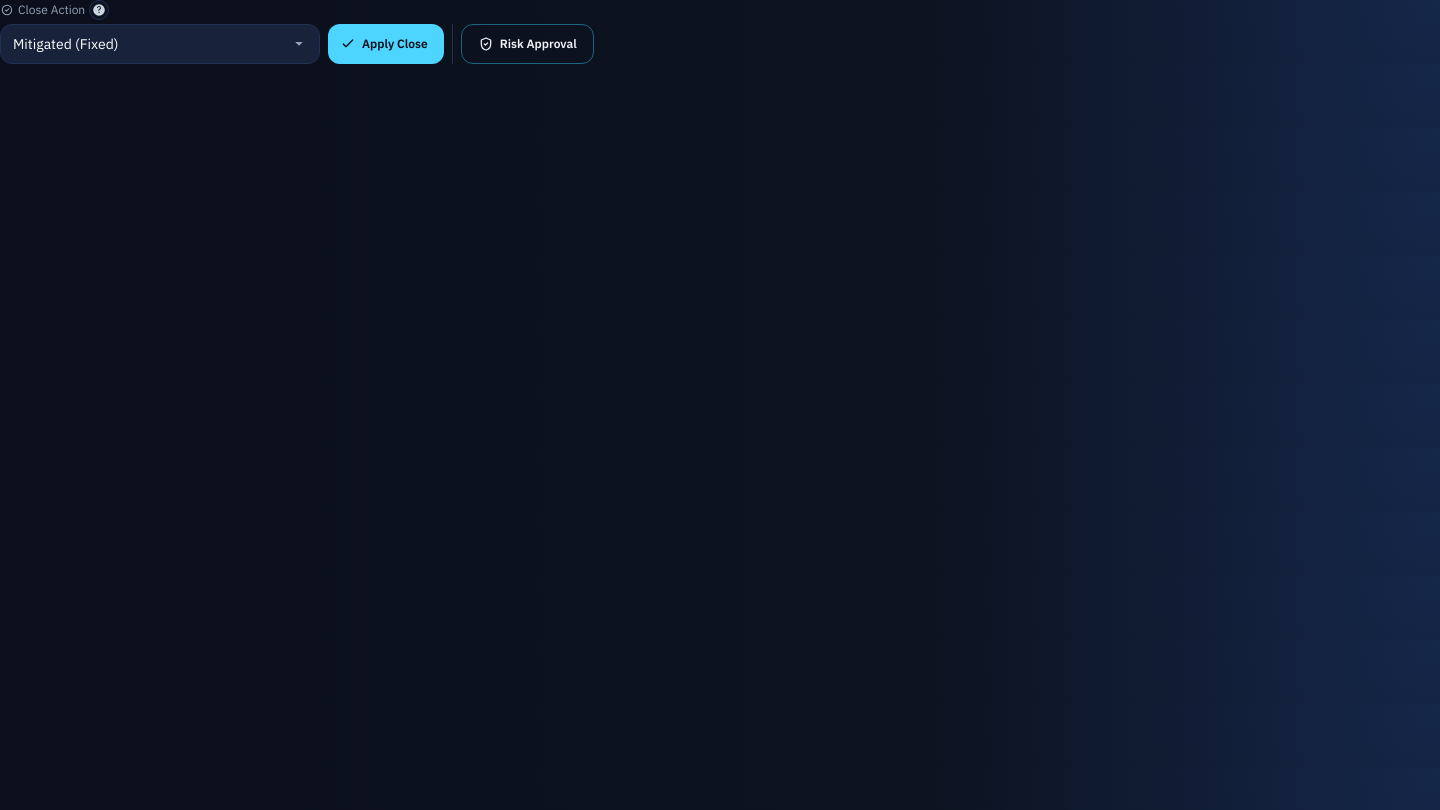
it: FindingStatusActions › closes modal on Escape key press
The image size is (1440, 810).
Click the button "Risk Approval" at (527, 44), box [461,24,594,64]
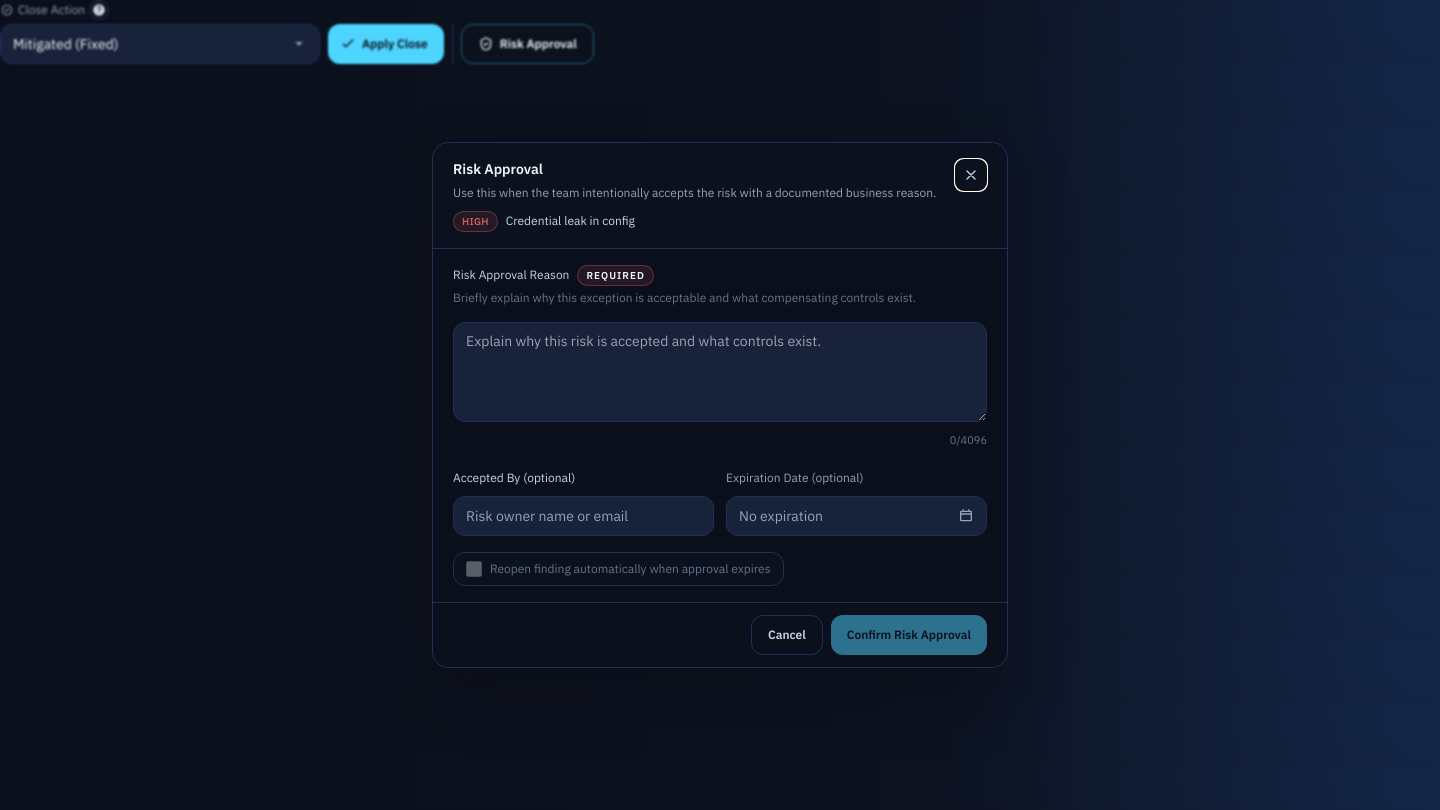
Check: the dialog is shown, box [432,142,1008,668]
Press Escape
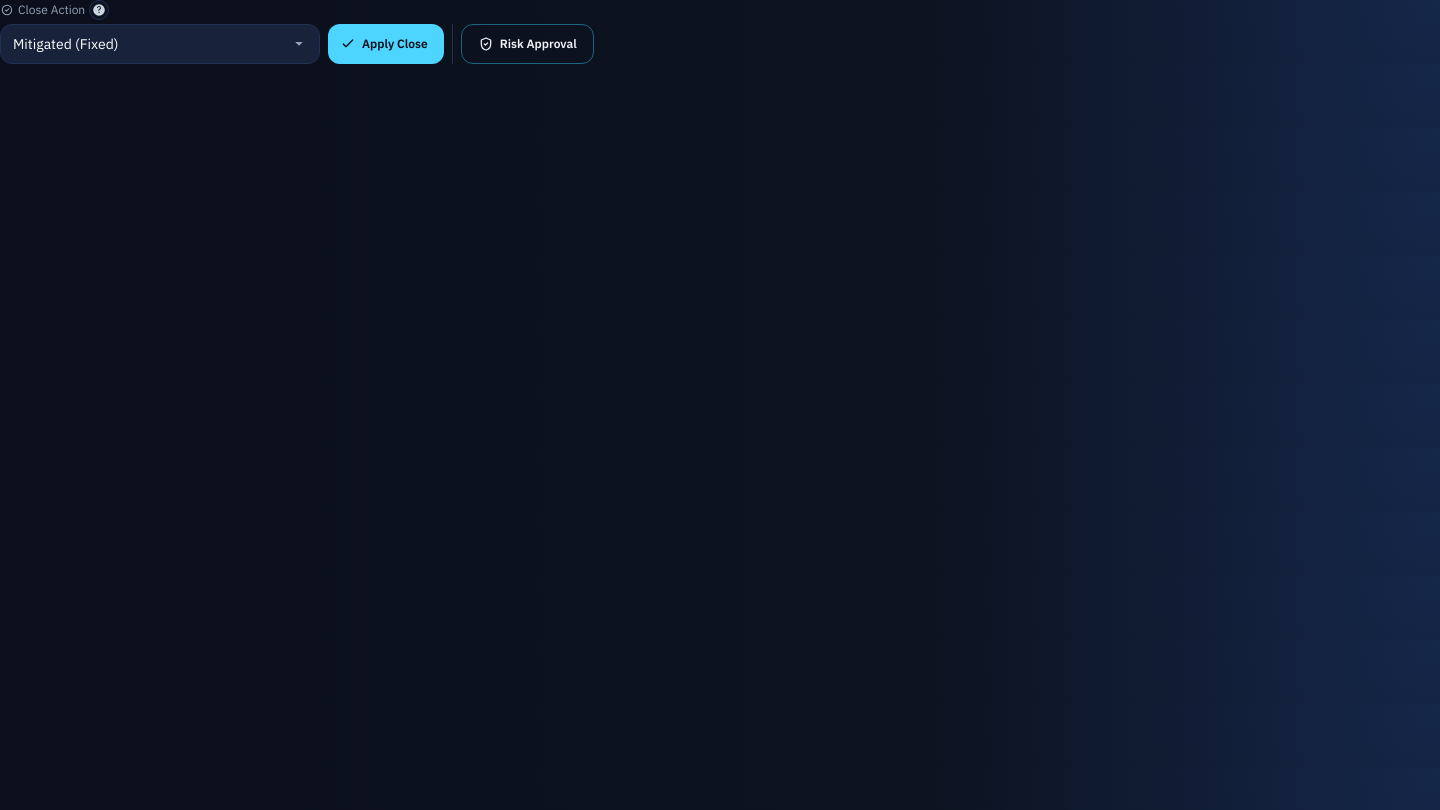
Check: the dialog is gone
